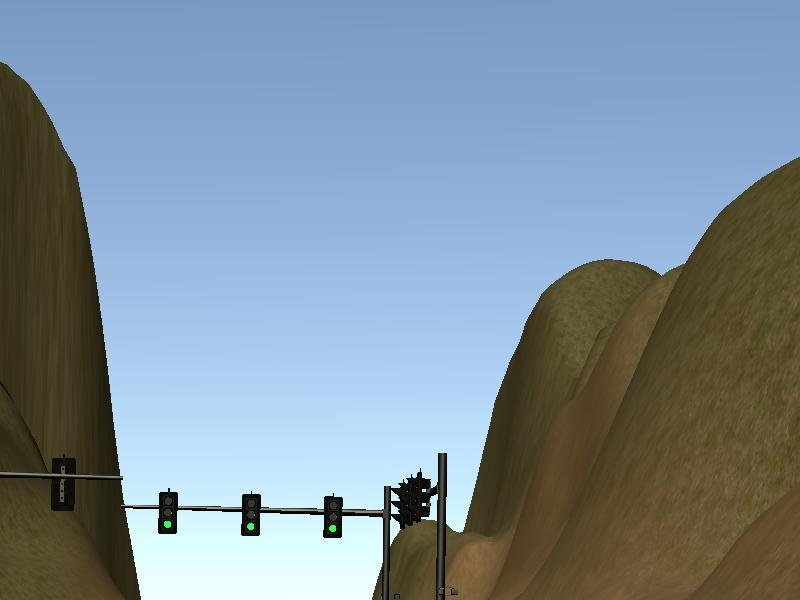green: (156, 487, 178, 538), (239, 490, 262, 538), (322, 496, 345, 541)
